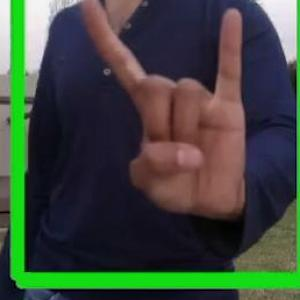takeoff-hand: (74, 0, 260, 237)
